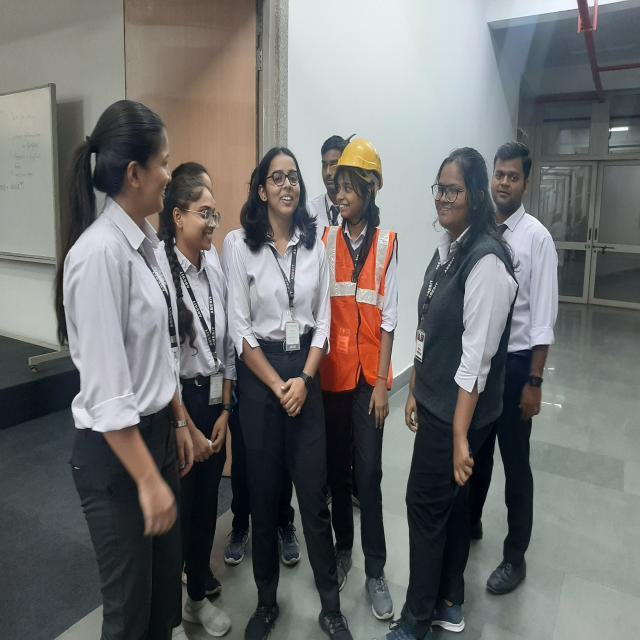safe: (323, 134, 397, 620)
unsafe: (65, 101, 180, 640), (240, 148, 334, 640), (408, 148, 503, 626), (489, 139, 561, 606), (172, 179, 231, 637)
